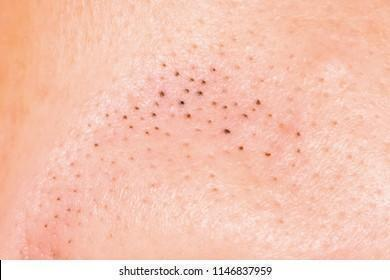blackhead: (38, 156, 97, 254), (118, 92, 165, 138), (73, 122, 122, 164), (178, 63, 231, 97), (230, 91, 279, 125), (280, 125, 321, 161), (189, 92, 231, 126), (231, 139, 279, 168), (149, 52, 190, 84), (165, 98, 193, 124), (218, 123, 234, 140)
